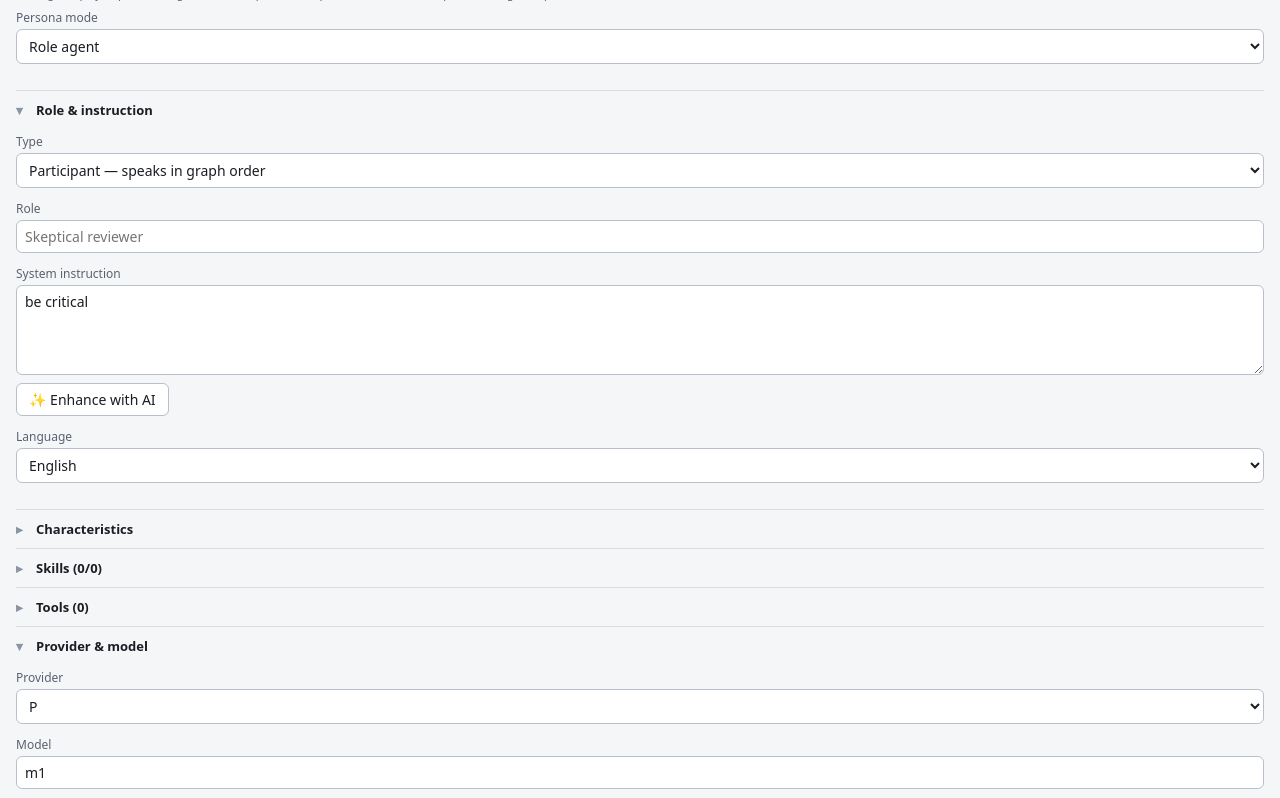
Test case: AgentInspector — enhance system prompt › proposes an enhanced prompt and applies the cleaned text to the field
(page scrolled)
Expected: the text box labelled "System instruction" holds "be critical", [16, 285, 1264, 375]
Click the button "✨ Enhance with AI". click: [92, 400]
box: [16, 383, 169, 416]
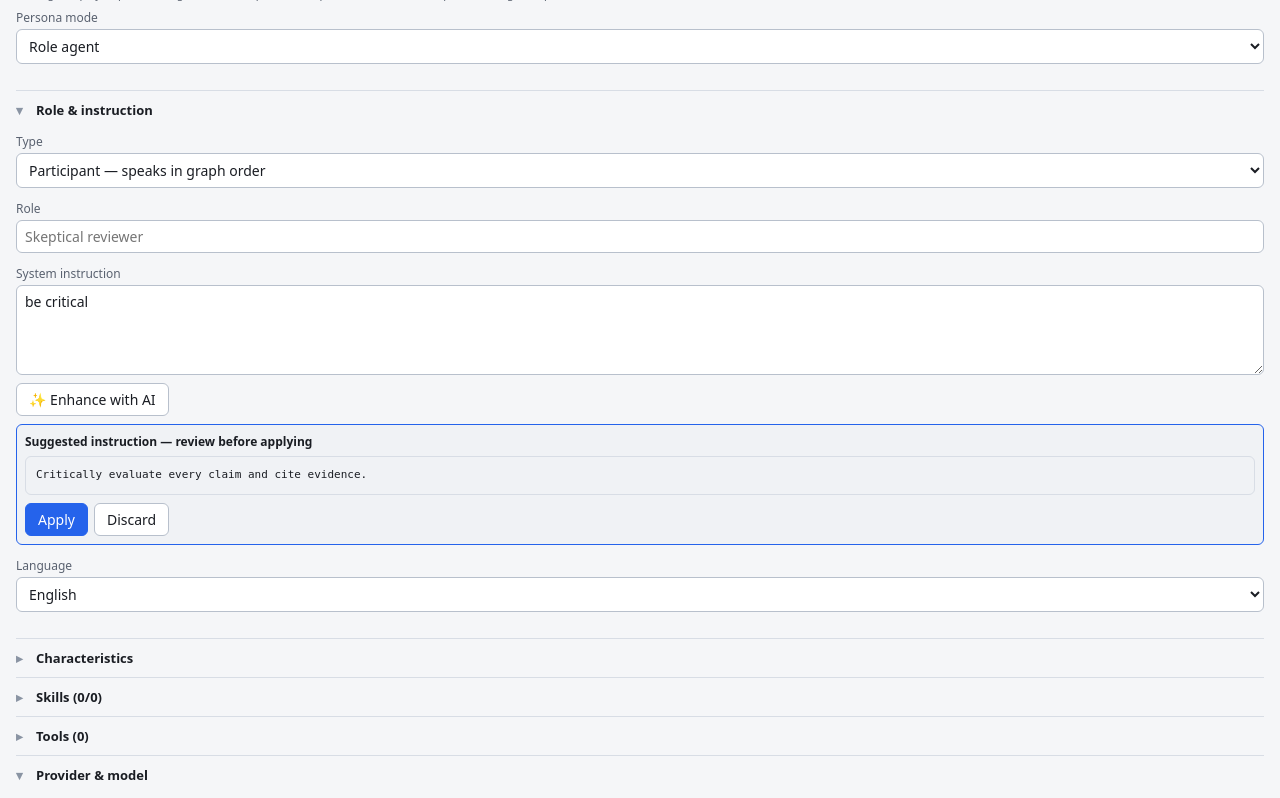
Result: the text "Critically evaluate every claim and cite evidence." is shown at [25, 456, 1255, 494]
Apply writes the cleaned text into the textarea and dismisses the preview.
Click the button "Apply". click: [56, 519]
box: [25, 502, 88, 536]
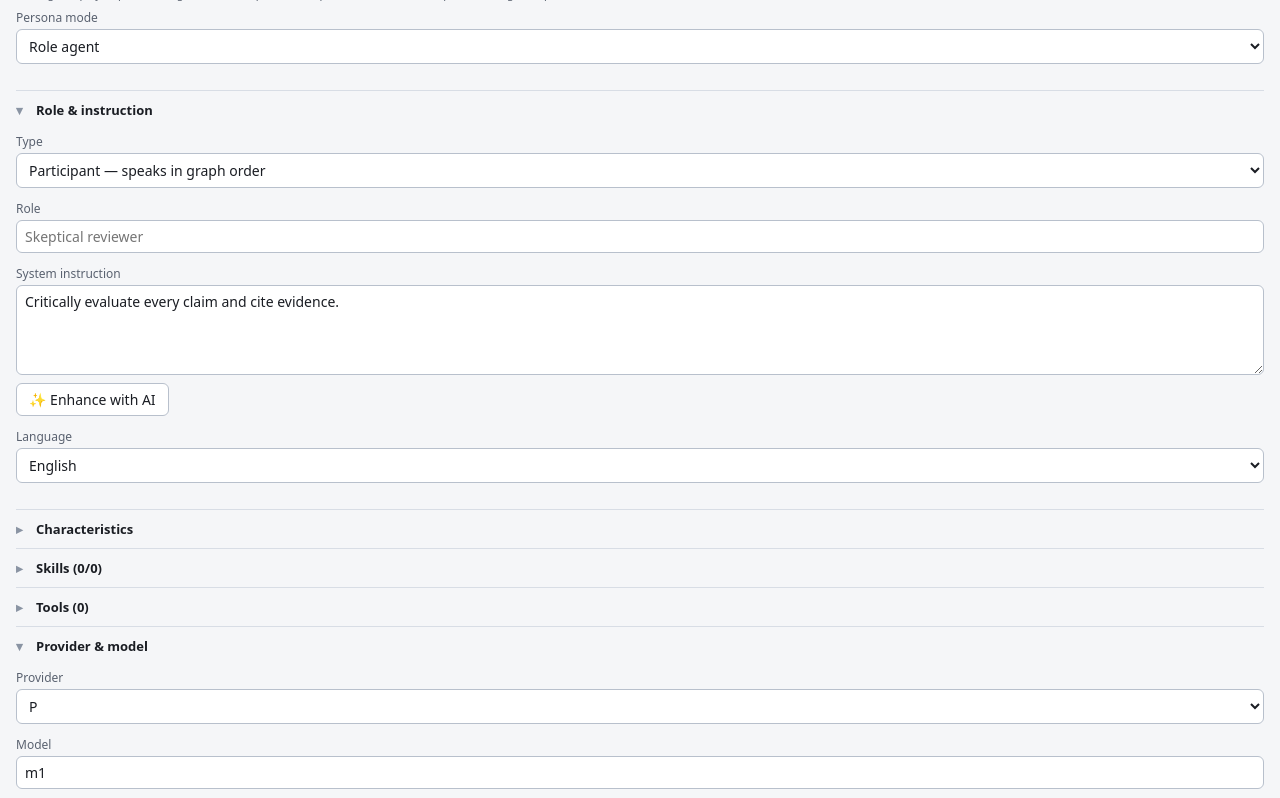
Result: the text box labelled "System instruction" holds "Critically evaluate every claim and cite evidence." at [16, 285, 1264, 375]
Result: the button "Apply" is gone
